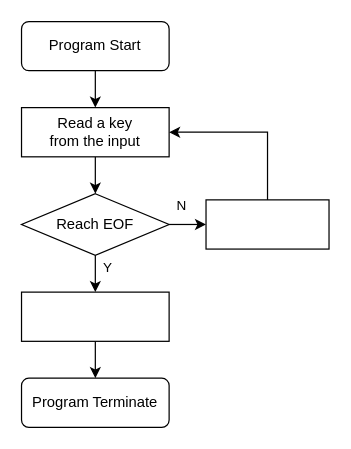
The diagram is 351 pixels wide and 449 high, and some of its shapes have lost their labels. The shapes that lost their labels are listed below. From the top down, each one's box as (x1, y1, x2, y2) in pixels, then its label:
(205, 199, 329, 249): Insert a key into the hash table
(20, 291, 169, 341): Print hash table
